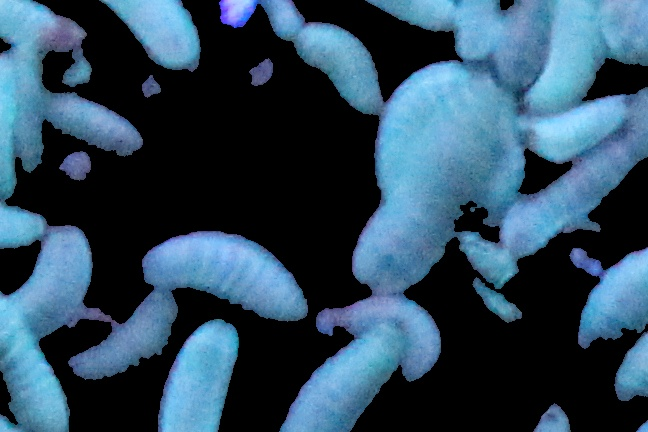larvae: (353, 81, 496, 289), (508, 132, 641, 254), (141, 230, 307, 322), (278, 323, 402, 432), (372, 60, 465, 184), (319, 294, 440, 383), (1, 290, 71, 432), (69, 289, 177, 380), (154, 320, 240, 432), (521, 1, 605, 115), (11, 226, 92, 337), (98, 1, 203, 75), (578, 247, 648, 353), (298, 25, 382, 112), (44, 92, 143, 155), (537, 101, 624, 165), (495, 1, 554, 89), (487, 123, 525, 221), (12, 47, 42, 171), (363, 1, 459, 34), (1, 1, 57, 55), (1, 49, 21, 196), (454, 1, 501, 61)
